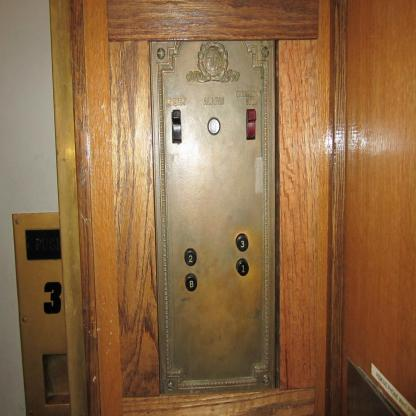1: (236, 258, 249, 276)
2: (184, 247, 197, 266)
3: (235, 232, 249, 252)
B: (184, 272, 197, 292)
empty: (206, 116, 221, 135)
switch: (171, 109, 182, 145), (246, 108, 256, 141)
